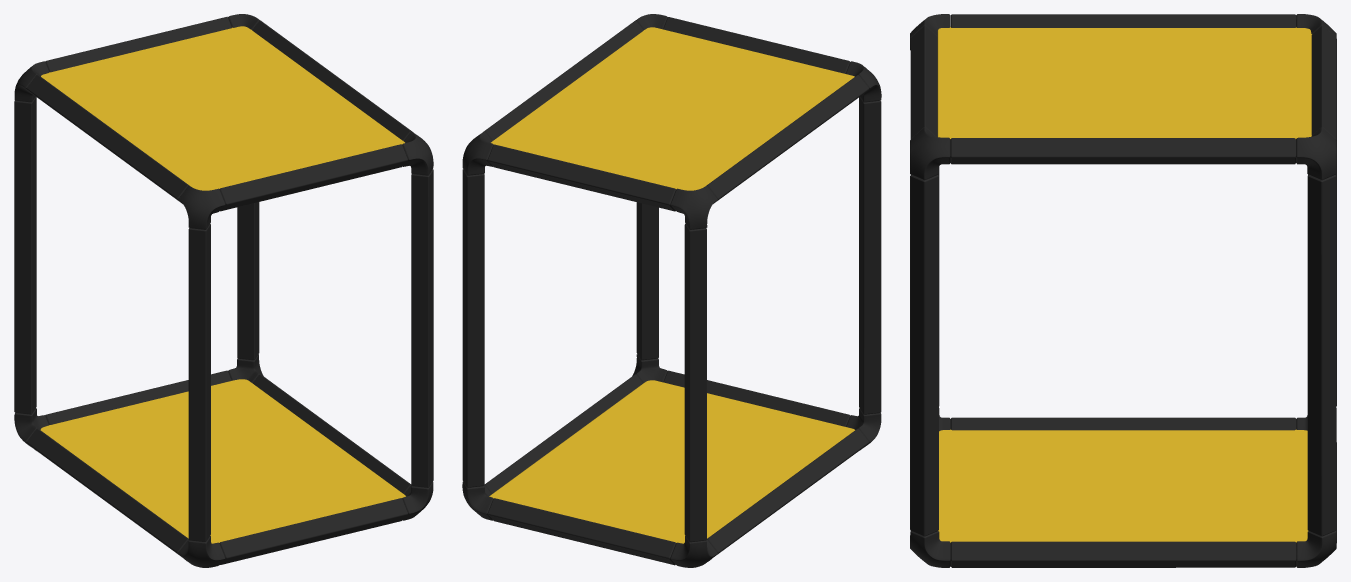
3 renders of one model, left to right at view 1: azimuth 30°, elevation 25°; view 2: azimuth 150°, elevation 25°; view 3: azimuth 270°, elevation 25°, orthographic. The views are drawn at different scales.
Visible parts, largest first — view 1: 229x329x374; view 2: 229x329x374; view 3: 229x329x374.
Boxes of the visible parts, x1,y1,x2,y2 form: 229x329x374: (14, 14, 433, 567); 229x329x374: (462, 14, 881, 567); 229x329x374: (910, 14, 1336, 567).
Size of the model in its own units: 0.3067 by 0.4516 by 0.4062.
